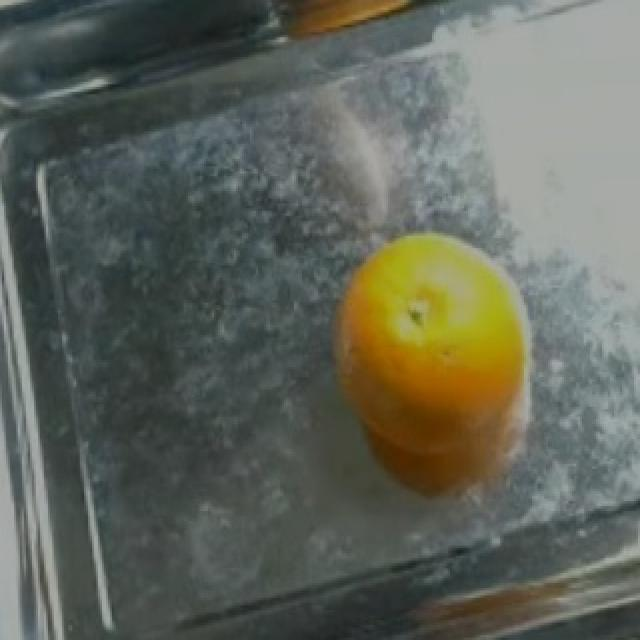Fruit: (310, 208, 556, 534), (216, 0, 450, 64)
